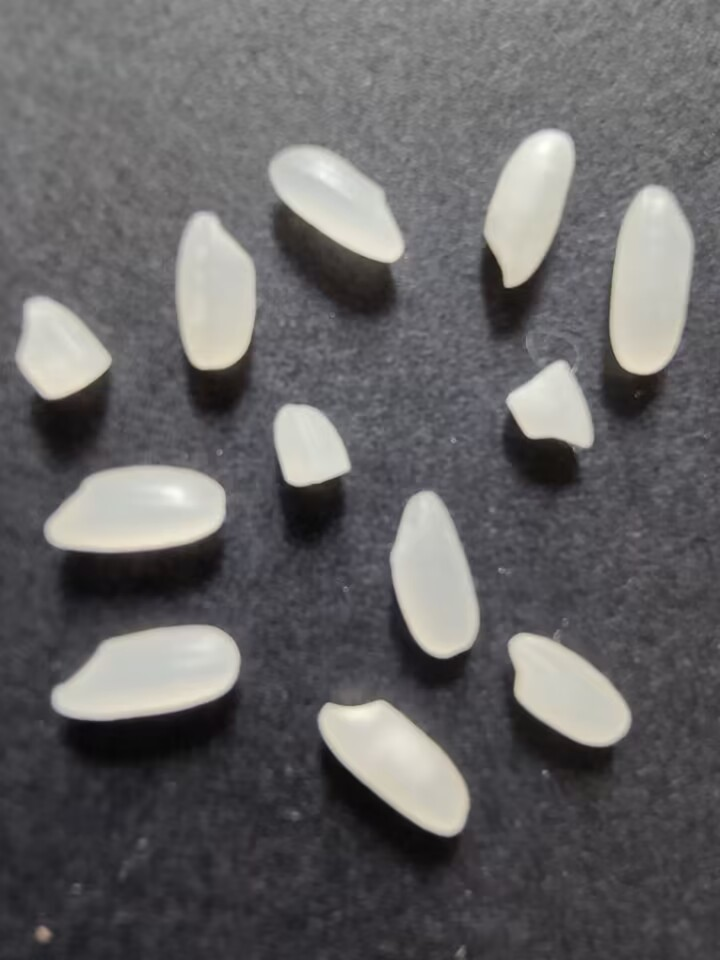broken: (14, 290, 115, 407), (502, 357, 601, 461), (269, 397, 357, 497)
rice: (312, 694, 472, 841), (39, 618, 246, 729), (37, 460, 230, 561), (266, 137, 409, 270), (605, 180, 695, 383), (498, 627, 637, 756), (385, 487, 482, 661), (477, 123, 575, 290), (174, 206, 261, 374)
